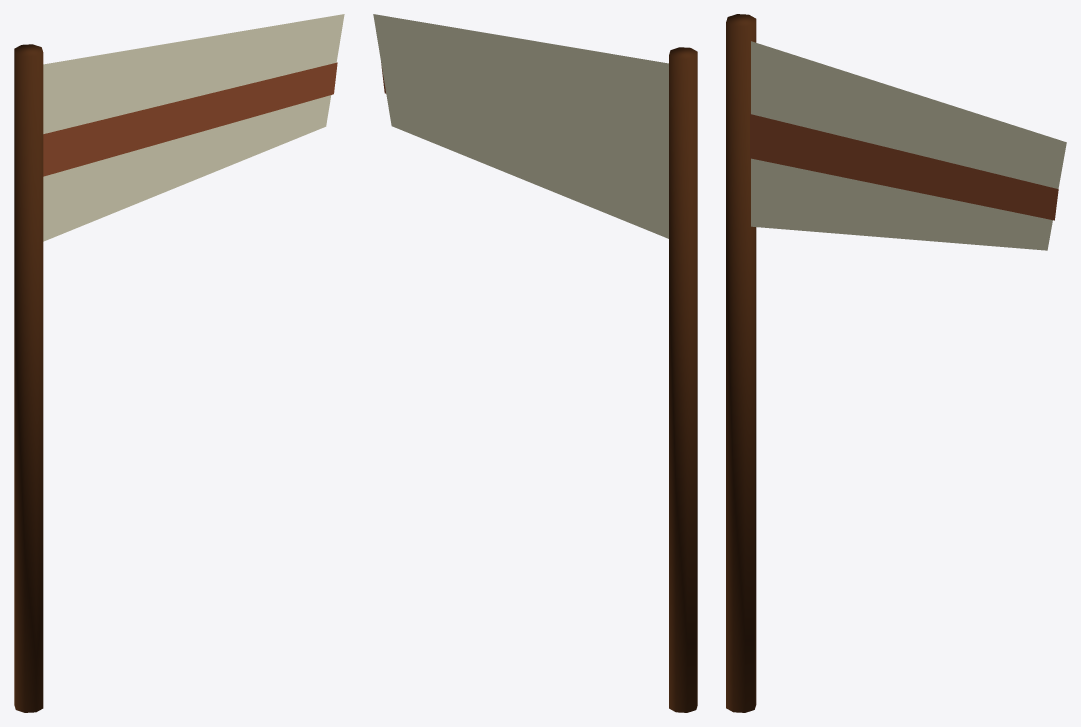
File: word.glb
3 renders of one model, left to right at view 1: azimuth 30°, elevation 25°; view 2: azimuth 150°, elevation 25°; view 3: azimuth 330°, elevation 25°, orthographic. The views are drawn at different scales.
Parts seen in each view (by area): view 1: flag, flagb, pole, flagband; view 2: flag, flagb, pole; view 3: flag, pole, flagb, flagband.
Part boxes in pixels (bbox=[...]): flag: bbox=[43, 14, 344, 241]; flagb: bbox=[43, 15, 343, 241]; pole: bbox=[14, 44, 43, 712]; flagband: bbox=[43, 62, 337, 176]; flag: bbox=[373, 14, 668, 238]; flagb: bbox=[373, 14, 668, 238]; pole: bbox=[669, 47, 697, 712]; flag: bbox=[751, 41, 1066, 250]; pole: bbox=[726, 14, 756, 712]; flagb: bbox=[751, 41, 1066, 250]; flagband: bbox=[750, 114, 1058, 220].
Bounding box in the file's own units: 0.885 × 1.7 × 0.07.
